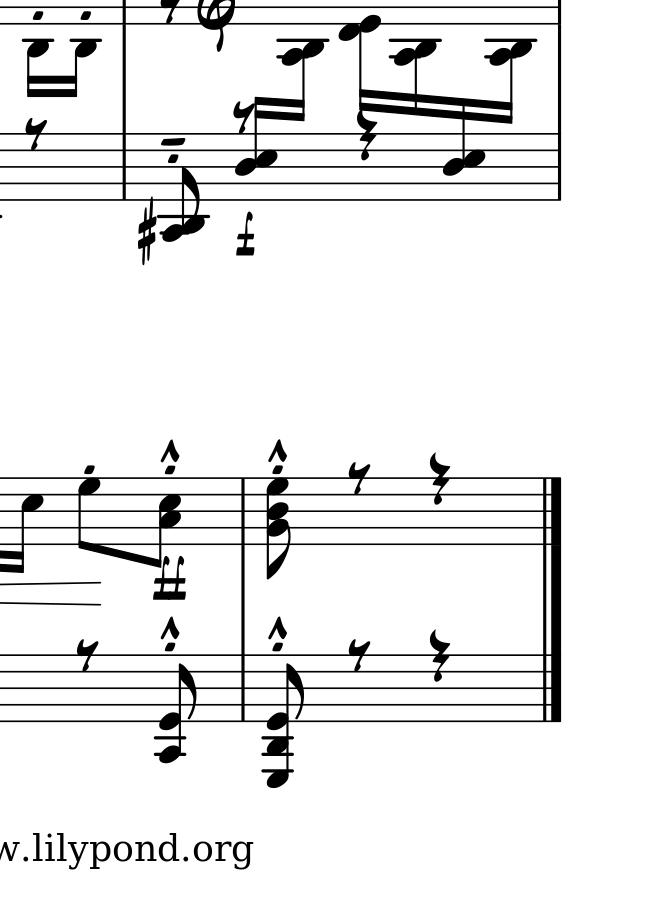16_4_5: (443, 97, 485, 204)
16_5: (11, 476, 44, 575)
8_-4_0: (156, 652, 196, 763)
8_3_5: (150, 476, 183, 568)
8_7: (76, 476, 102, 553)
8_th: (263, 654, 306, 790), (265, 474, 289, 580)
Final_barline: (535, 653, 561, 721), (537, 477, 562, 543)
Marcato_above: (157, 615, 182, 644), (265, 615, 290, 643), (157, 438, 182, 465), (265, 438, 289, 464)
Rests4: (426, 451, 452, 508), (427, 628, 452, 684), (354, 111, 379, 164), (230, 99, 255, 134)
Rests8: (345, 460, 373, 495), (74, 637, 100, 672), (347, 638, 373, 673), (24, 116, 49, 151)
Sharp: (136, 200, 157, 266)
Single_barline: (235, 654, 251, 723), (551, 133, 567, 201), (116, 133, 131, 199), (236, 478, 250, 542)
f: (233, 211, 256, 259)
ff: (154, 552, 186, 603)
